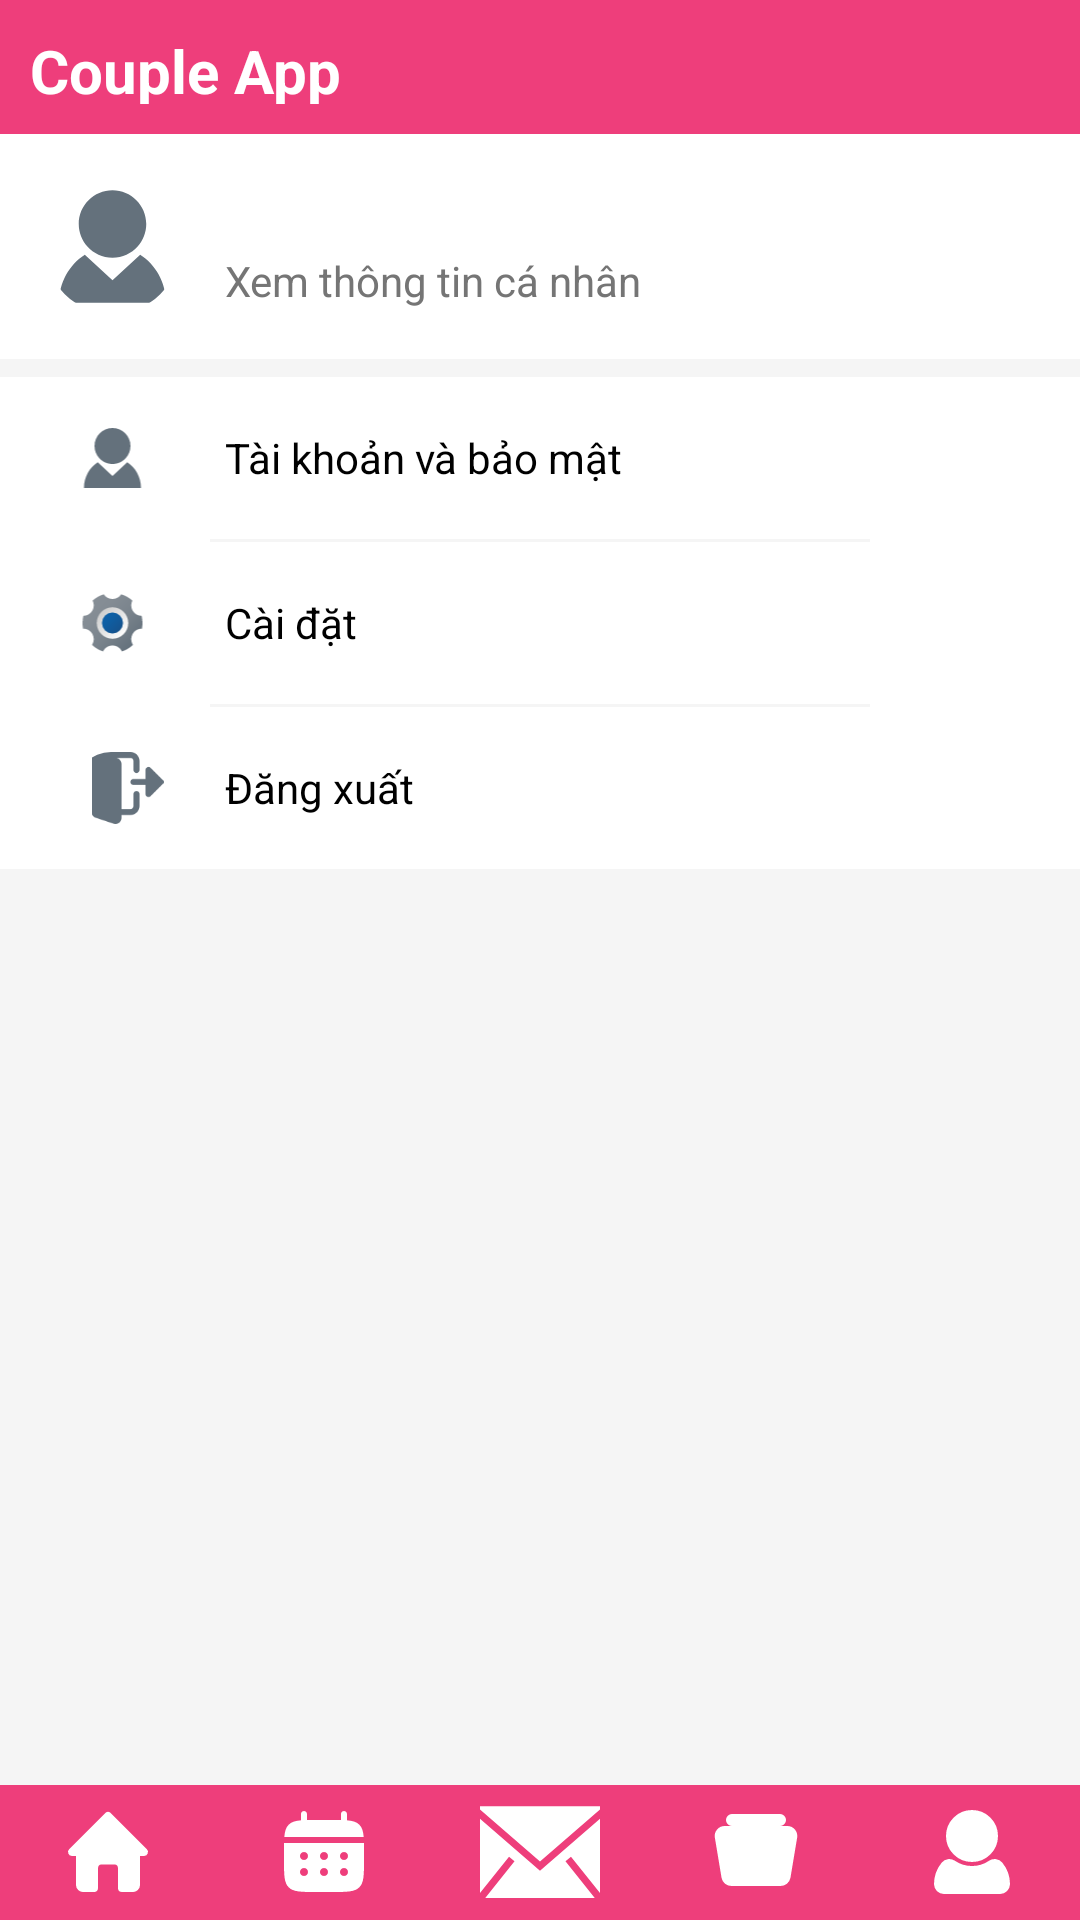

Named icons in this screenshot (1080*1920) and their bounding boxes, (x1, y1, x2, y2):
account: (60, 190, 164, 303), (83, 428, 142, 488)
calendar: (284, 1811, 364, 1892)
home: (68, 1812, 148, 1892)
message: (480, 1806, 600, 1898)
setting: (82, 594, 143, 651)
